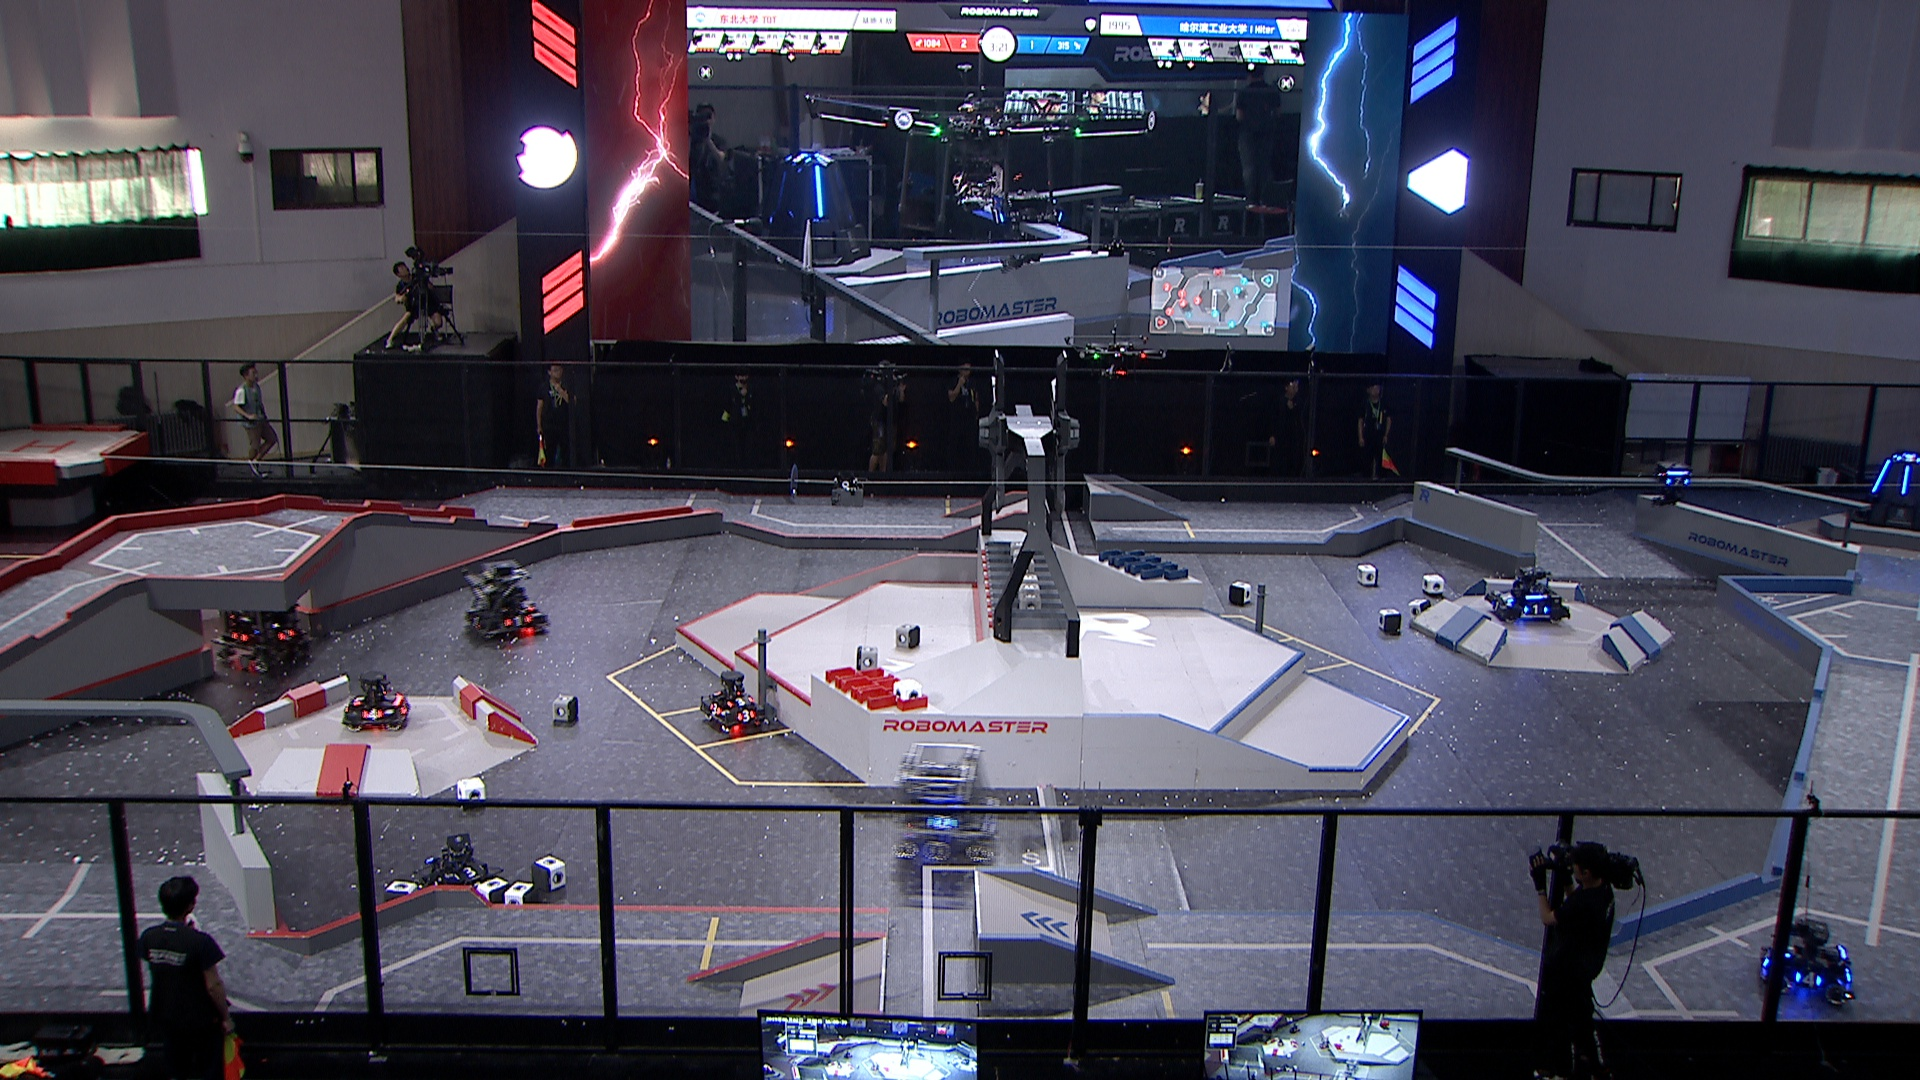armor: (1871, 458, 1894, 493), (923, 812, 953, 829), (1892, 447, 1920, 463), (462, 613, 485, 632), (454, 864, 481, 880), (1662, 475, 1691, 489), (1792, 971, 1818, 986), (728, 694, 752, 709), (1898, 465, 1911, 493), (505, 613, 529, 628), (514, 595, 534, 612), (278, 628, 297, 642), (733, 711, 756, 723), (363, 708, 382, 721), (353, 688, 367, 708), (707, 702, 723, 717), (1490, 597, 1505, 615), (1523, 604, 1545, 615), (228, 629, 248, 641), (400, 699, 409, 719)
base: (1846, 443, 1920, 527)
car: (887, 737, 1002, 873), (1756, 916, 1859, 1006), (212, 584, 310, 676), (455, 559, 553, 637), (1481, 560, 1576, 632), (695, 665, 778, 738), (419, 831, 496, 899), (342, 670, 414, 731)
ignore: (942, 98, 1063, 235), (752, 149, 873, 266)
watcher: (1654, 458, 1697, 506)
